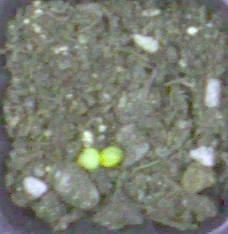pepper seed: (37, 63, 161, 231), (26, 61, 126, 233)
